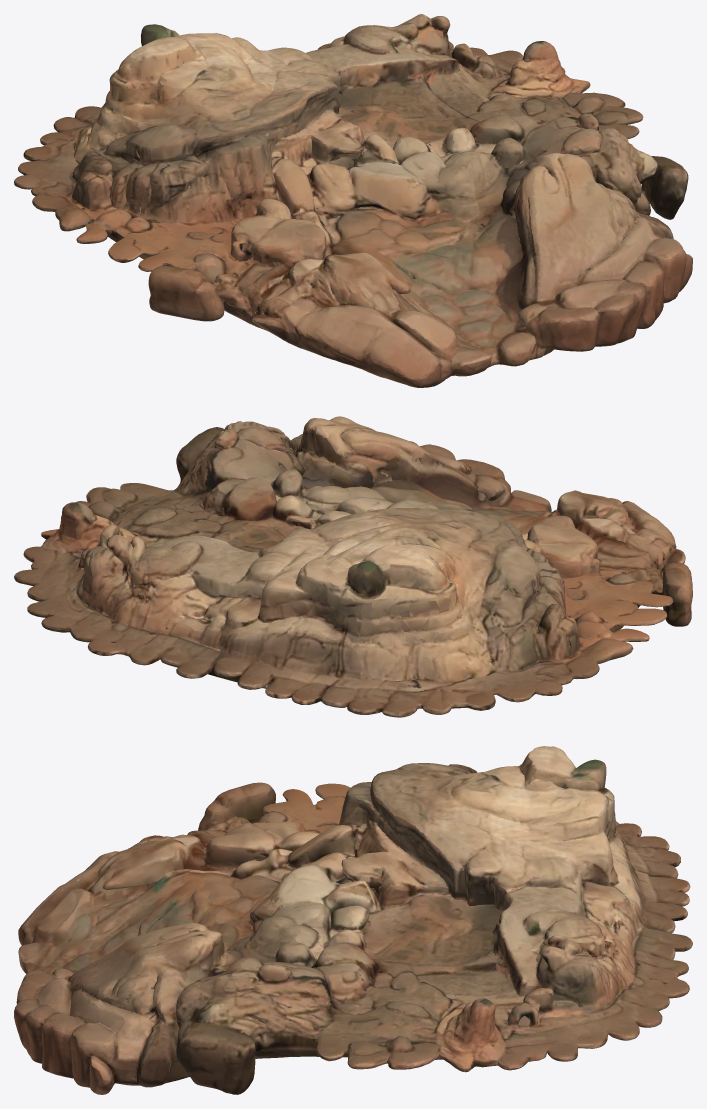
Rendered from soil-profile-v6.glb.
The picture shows the model from 3 angles, top to bottom: view 1: azimuth 30°, elevation 25°; view 2: azimuth 150°, elevation 25°; view 3: azimuth 270°, elevation 25°; orthographic projection. The views are drawn at different scales.
Visible parts, largest first — view 1: geometry_0; view 2: geometry_0; view 3: geometry_0.
Part boxes in pixels (x1=…): geometry_0: x1=14, y1=14, x2=692, y2=387; geometry_0: x1=14, y1=416, x2=692, y2=717; geometry_0: x1=14, y1=746, x2=692, y2=1094.
Size of the model in its own units: 1.2 by 0.3698 by 1.19.
Materials: 1 (1 with a texture image).
